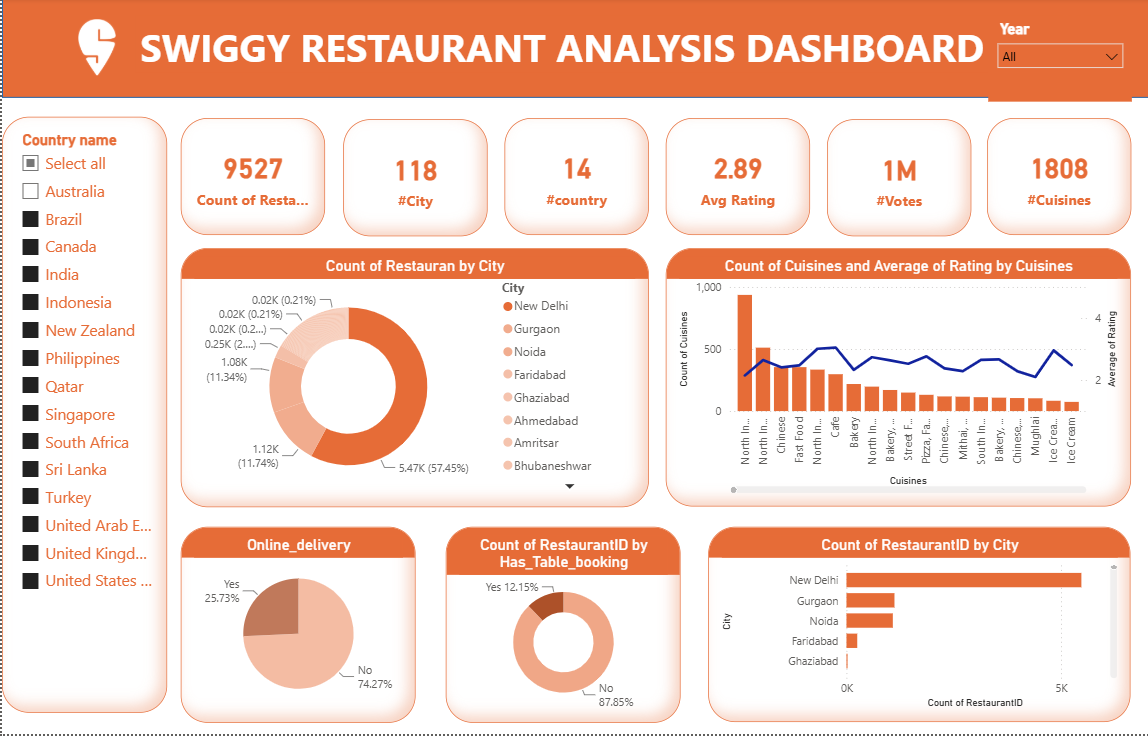

The dashboard page shown, as its layout file describes it:
{"tool":"powerbi","page":{"name":"Page 1","canvas":[1280,820],"ordinal":0},"visuals":[{"type":"shape","box":[0,0,1280.3,111.1],"z":0},{"type":"textbox","box":[149.6,19.2,981.1,63.1],"z":1000},{"type":"card","fields":{"Values":["CountNonNull(Restaurnat.RestaurantID)"]},"box":[199,133.1,160.5,130.4],"z":2000},{"type":"card","fields":{"Values":["Sum(Restaurnat.Votes)"]},"box":[919.4,134.5,160.5,130.4],"z":3000},{"type":"card","fields":{"Values":["Avg(Restaurnat.Rating)"]},"box":[739.6,133.1,160.5,130.4],"z":4000},{"type":"card","fields":{"Values":["Count(Countries.country name)"]},"box":[559.9,133.1,160.5,130.4],"z":5000},{"type":"card","fields":{"Values":["Count(Restaurnat.City)"]},"box":[380.1,134.5,160.5,130.4],"z":6000},{"type":"card","fields":{"Values":["Count(Restaurnat.Cuisines)"]},"box":[1097.8,133.1,160.5,130.4],"z":7000},{"type":"map","title":"Count of Restauran  by City","fields":{"Category":["Restaurnat.City"],"Size":["CountNonNull(Restaurnat.RestaurantID)"]},"box":[199.2,278.5,520.9,288.3],"z":8000},{"type":"lineStackedColumnComboChart","fields":{"Category":["Restaurnat.Cuisines"],"Y":["CountNonNull(Restaurnat.Cuisines)"],"Y2":["Avg(Restaurnat.Rating)"]},"box":[739.5,278.5,518.1,288.3],"z":9000},{"type":"pieChart","title":"Online_delivery","fields":{"Y":["CountNonNull(Restaurnat.RestaurantID)"],"Category":["Restaurnat.Has_Online_delivery"]},"box":[199.2,589.1,261.8,218.6],"z":10000},{"type":"donutChart","fields":{"Y":["CountNonNull(Restaurnat.RestaurantID)"],"Category":["Restaurnat.Has_Table_booking"]},"box":[494.4,589.1,261.8,218.6],"z":11000},{"type":"clusteredBarChart","fields":{"Category":["Restaurnat.City"],"Y":["CountNonNull(Restaurnat.RestaurantID)"]},"box":[786.9,589.1,470.7,217.3],"z":12000},{"type":"image","box":[62.7,23.7,86.3,62.7],"z":13000},{"type":"slicer","fields":{"Values":["Countries.country name"]},"box":[0,132.3,183.8,664.3],"z":13001},{"type":"slicer","fields":{"Values":["Restaurnat.Datekey_Opening.Variation.Date Hierarchy.Year"]},"box":[1098.8,19.5,160.2,96.1],"z":13002}]}

Visuals, with their boxes in screenshot pixels (x1, y1, x2, y2), scaled from the page's 1280x820 canvas onto the 1148x741 screenshot:
shape: {"left": 0, "top": 0, "right": 1147, "bottom": 100}
textbox: {"left": 134, "top": 17, "right": 1014, "bottom": 74}
card - CountNonNull(Restaurnat.RestaurantID): {"left": 178, "top": 120, "right": 322, "bottom": 238}
card - Sum(Restaurnat.Votes): {"left": 825, "top": 122, "right": 969, "bottom": 239}
card - Avg(Restaurnat.Rating): {"left": 663, "top": 120, "right": 807, "bottom": 238}
card - Count(Countries.country name): {"left": 502, "top": 120, "right": 646, "bottom": 238}
card - Count(Restaurnat.City): {"left": 341, "top": 122, "right": 485, "bottom": 239}
card - Count(Restaurnat.Cuisines): {"left": 985, "top": 120, "right": 1129, "bottom": 238}
"Count of Restauran  by City" map: {"left": 179, "top": 252, "right": 646, "bottom": 512}
lineStackedColumnComboChart - Restaurnat.Cuisines x CountNonNull(Restaurnat.Cuisines): {"left": 663, "top": 252, "right": 1128, "bottom": 512}
"Online_delivery" pieChart: {"left": 179, "top": 532, "right": 413, "bottom": 730}
donutChart - CountNonNull(Restaurnat.RestaurantID) x Restaurnat.Has_Table_booking: {"left": 443, "top": 532, "right": 678, "bottom": 730}
clusteredBarChart - Restaurnat.City x CountNonNull(Restaurnat.RestaurantID): {"left": 706, "top": 532, "right": 1128, "bottom": 729}
image: {"left": 56, "top": 21, "right": 134, "bottom": 78}
slicer - Countries.country name: {"left": 0, "top": 120, "right": 165, "bottom": 720}
slicer - Restaurnat.Datekey_Opening.Variation.Date Hierarchy.Year: {"left": 985, "top": 18, "right": 1129, "bottom": 104}
